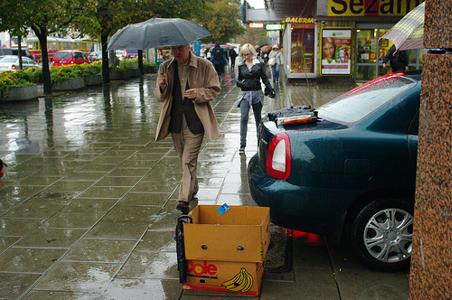person: (154, 44, 222, 213)
